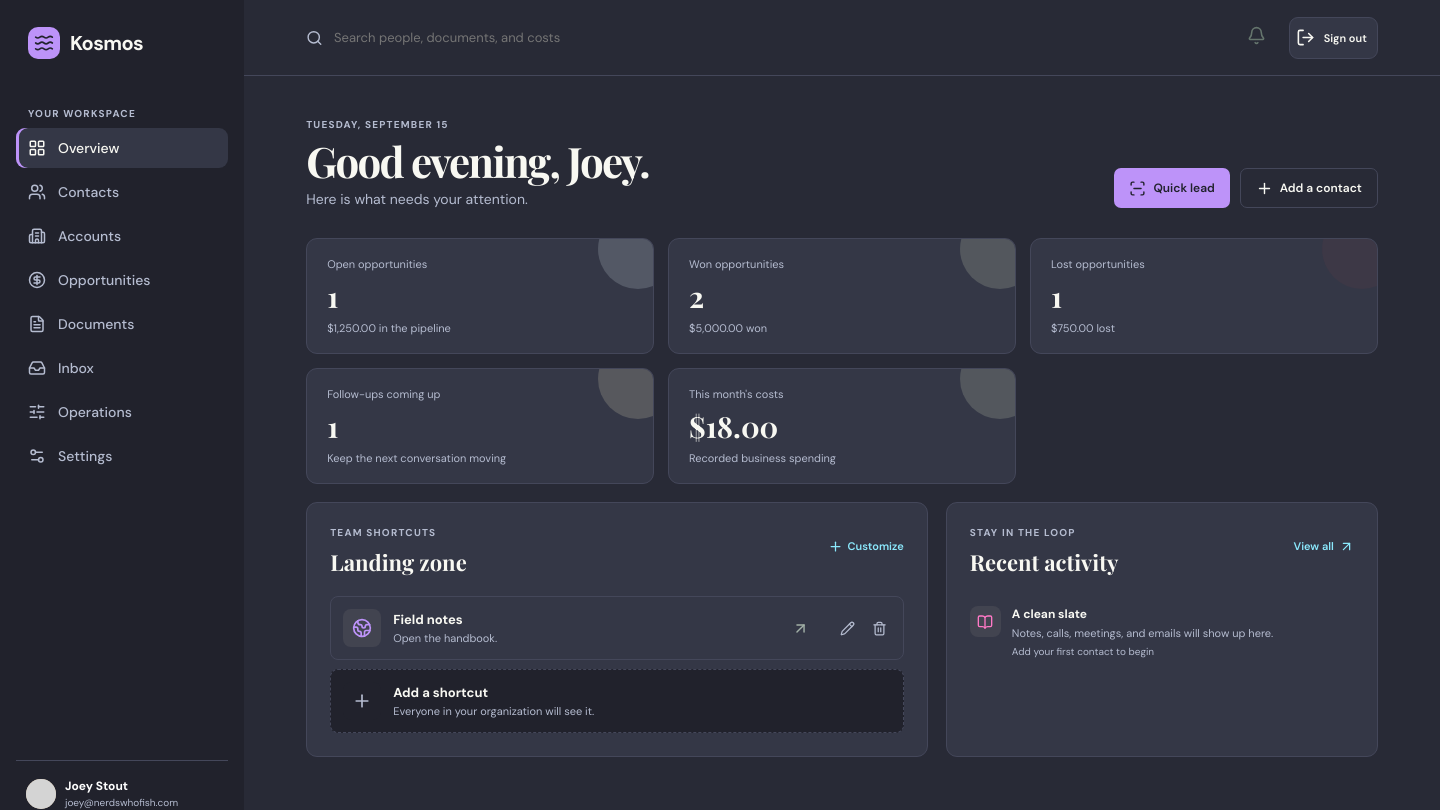
Kosmos application › keeps distant reminders in the future-reminders review
Expected: the heading "Good evening, Joey." is shown, [306,139,649,183]
What coordinates should you click on to do the following:
click the button named "notifications and follow-ups"
I would click on:
 (1256, 38)
Its box is [1239,18,1274,58].
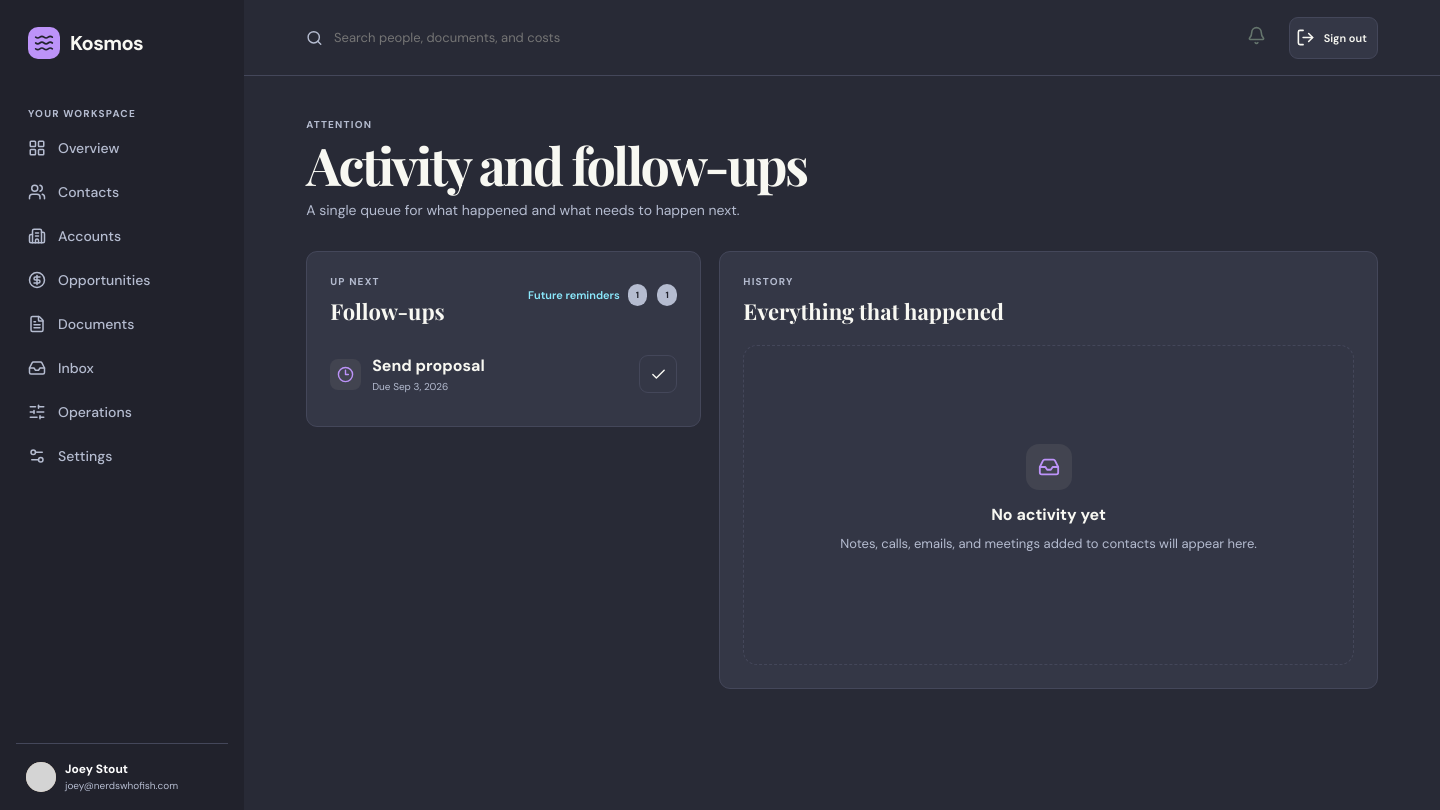
Expected: the text "affordable-drainage-solutions.com renews in 30 days" is not shown
Result: the heading "Activity and follow-ups" is shown at [306,139,807,191]
What coordinates should you click on to do the following:
click the button "Future reminders 1"
I would click on:
 (588, 295)
Its box is [528,275,648,315].
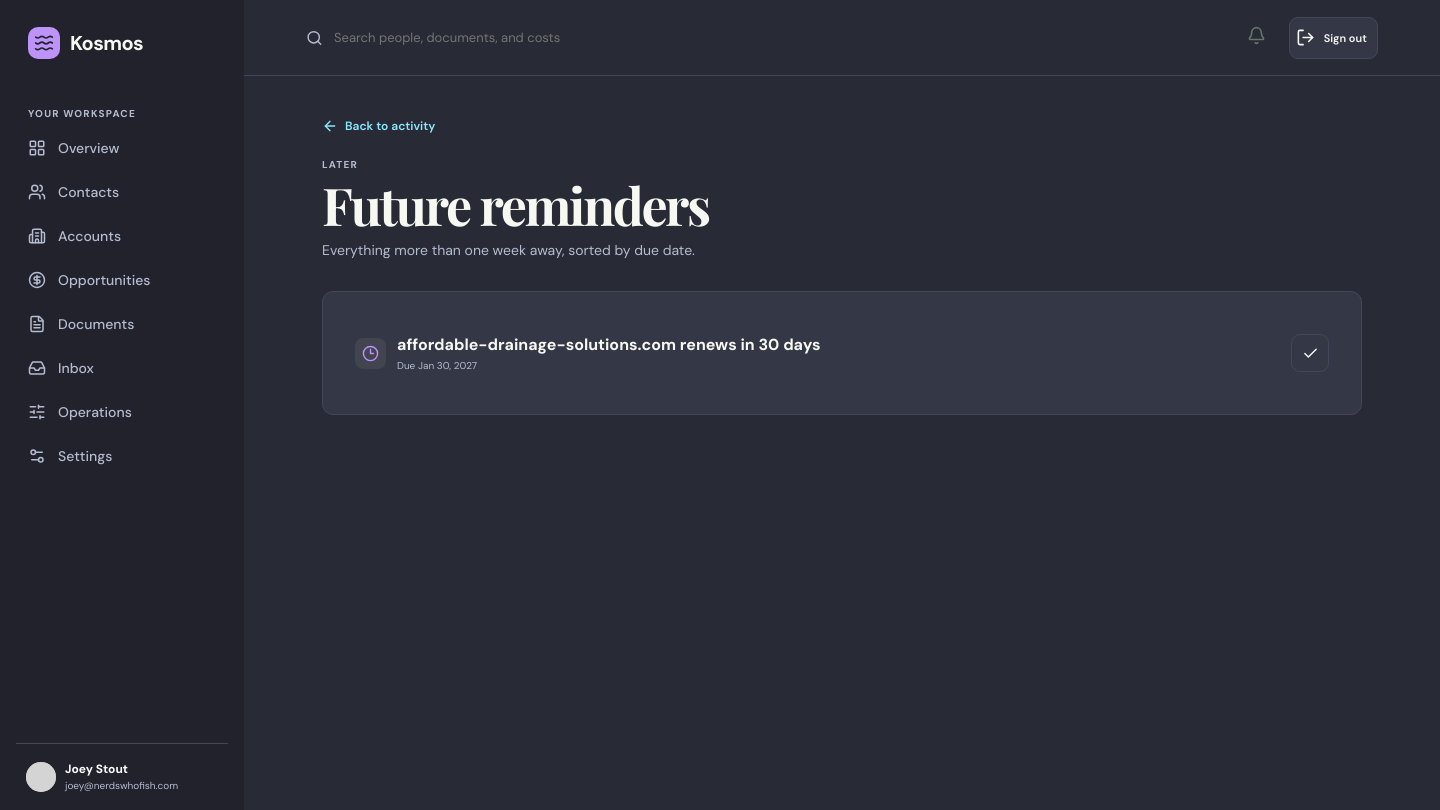
Result: the text "affordable-drainage-solutions.com renews in 30 days" is shown at [397,334,820,355]
